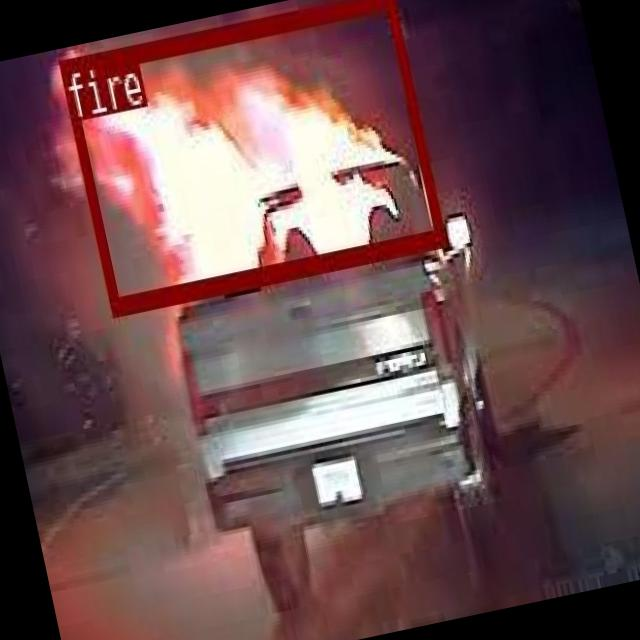fire: (57, 0, 443, 313)
